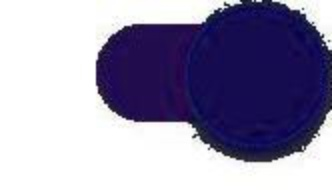Switch: (1, 1, 331, 189)
